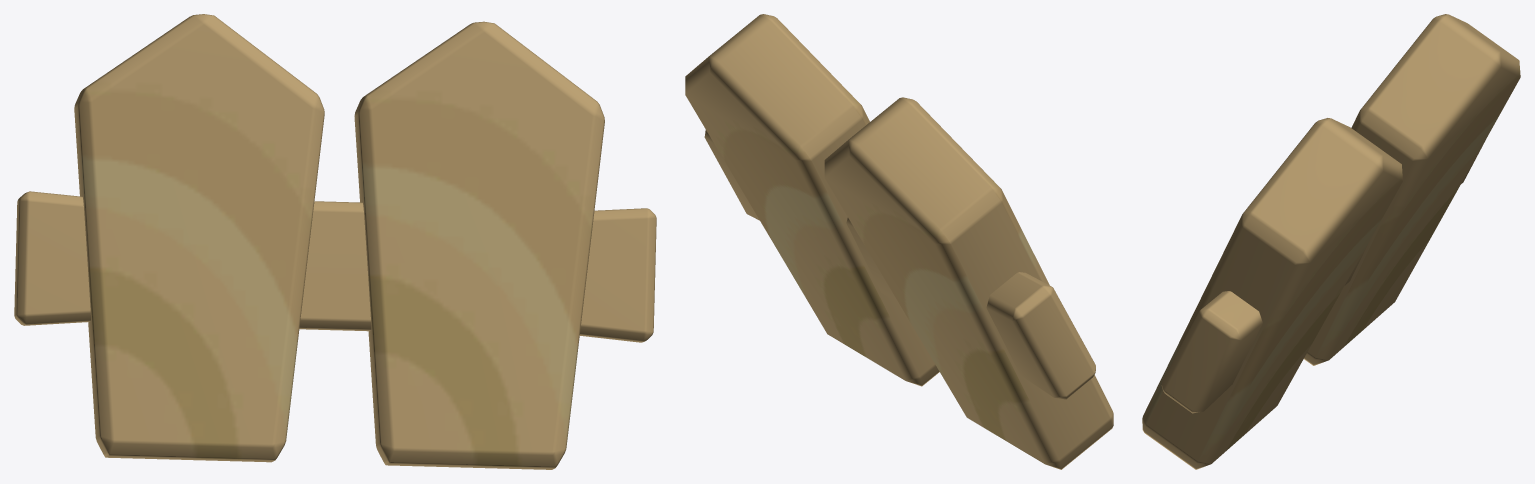
Rendered from UnitIconFence.glb.
3 views of the same model, side by side, from view 1: azimuth 30°, elevation 25°; view 2: azimuth 150°, elevation 25°; view 3: azimuth 270°, elevation 25° (orthographic). The views are drawn at different scales.
Visible parts, largest first — view 1: pCube3__mBody; view 2: pCube3__mBody; view 3: pCube3__mBody.
Part boxes in pixels (<box>): pCube3__mBody: <box>14,14,656,469</box>; pCube3__mBody: <box>685,14,1113,469</box>; pCube3__mBody: <box>1142,14,1520,469</box>.
Bounding box in the file's own units: 5.6 × 4.13 × 3.91.
1 material, 1 textured.
